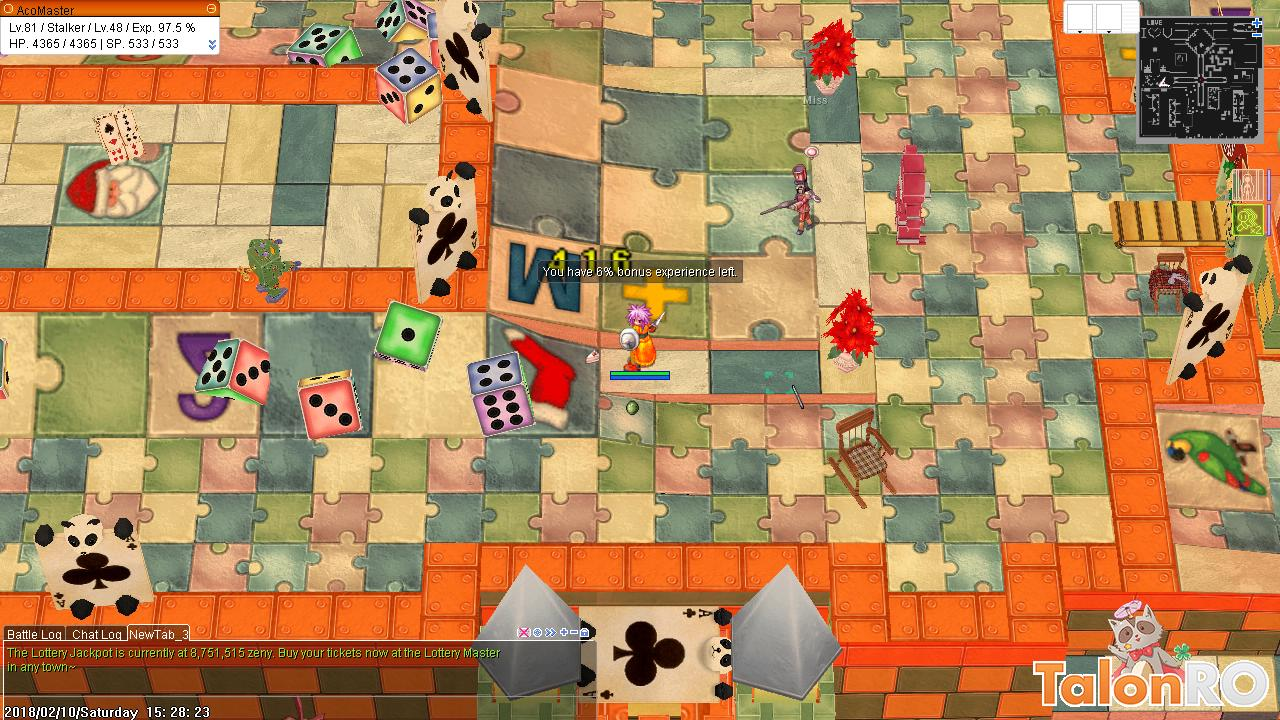loot: (621, 395, 644, 418), (581, 345, 604, 368)
mob: (757, 161, 827, 239)
